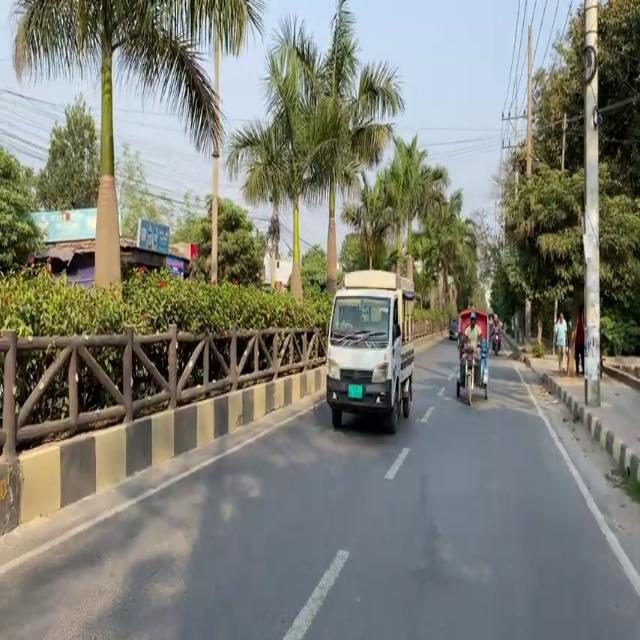Construction-barrier: (509, 342, 639, 602), (22, 408, 284, 492)
Fallen-tree: (490, 328, 501, 355)
Garbage: (454, 308, 490, 405)
Garbage-bin: (569, 304, 584, 374), (553, 312, 568, 372)
Light-pole: (574, 4, 612, 420)
Pothole: (521, 347, 639, 487)
Traffic-cone: (324, 268, 416, 433)
